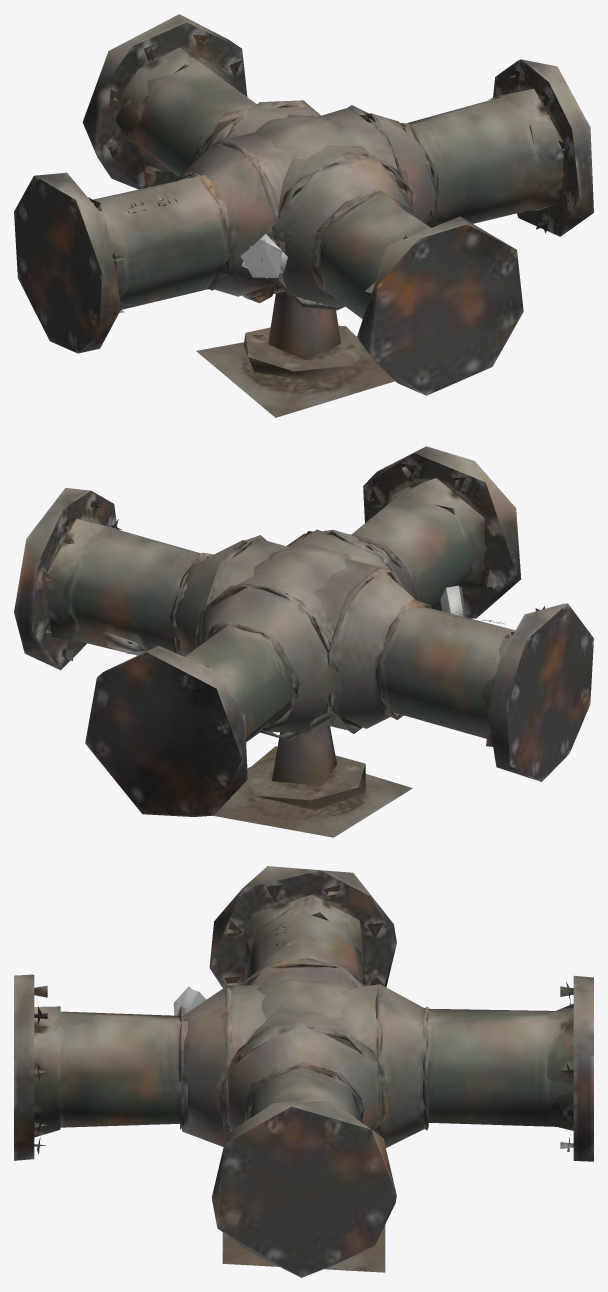
The model's file is cano_cruz.glb.
3 renders of one model, top to bottom at view 1: azimuth 30°, elevation 25°; view 2: azimuth 150°, elevation 25°; view 3: azimuth 270°, elevation 25°, orthographic. The views are drawn at different scales.
Parts seen in each view (by area): view 1: cano_cruz_corpo; view 2: cano_cruz_corpo; view 3: cano_cruz_corpo.
Boxes of the visible parts, box(x1,y1,x2,y2) form: cano_cruz_corpo: box(14, 14, 593, 417); cano_cruz_corpo: box(14, 446, 593, 837); cano_cruz_corpo: box(14, 866, 593, 1277).
Bounding box in the file's own units: 1 × 0.4837 × 1.
Materials: 2 (1 with a texture image).
